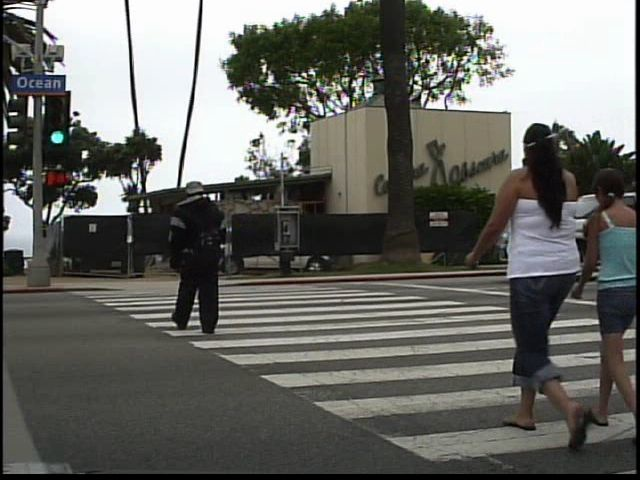person: (471, 110, 594, 462), (157, 170, 242, 344)
